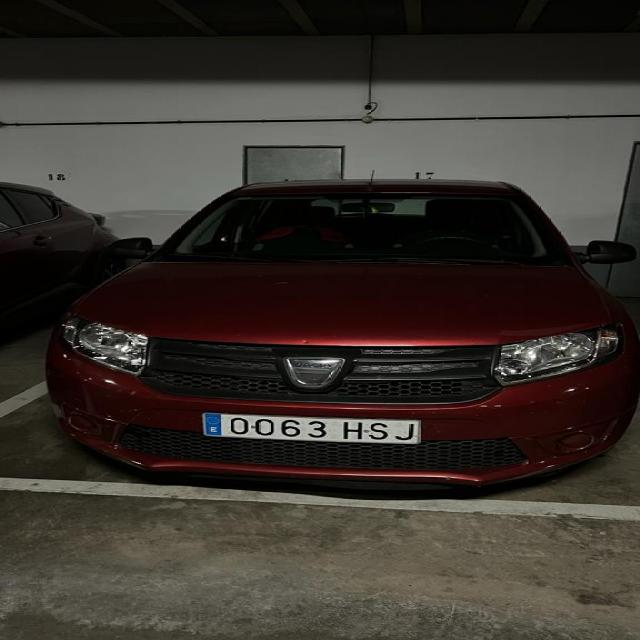License-Plate: (200, 410, 422, 446)
